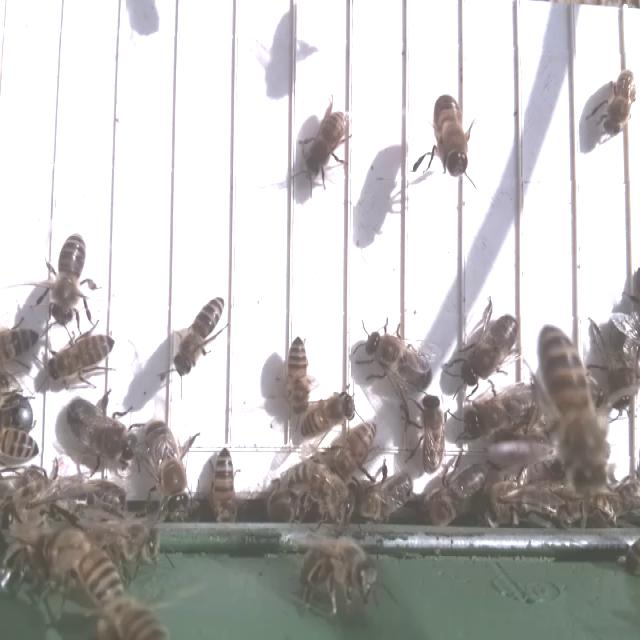Drone: (62, 394, 142, 468), (455, 309, 520, 391), (141, 415, 191, 519), (364, 328, 434, 395)
Worker: (174, 292, 228, 381), (48, 230, 90, 324), (48, 330, 118, 383), (298, 388, 358, 444), (303, 108, 349, 178), (433, 93, 471, 177), (600, 68, 639, 140), (414, 393, 448, 475), (284, 327, 312, 416), (212, 443, 236, 523)
